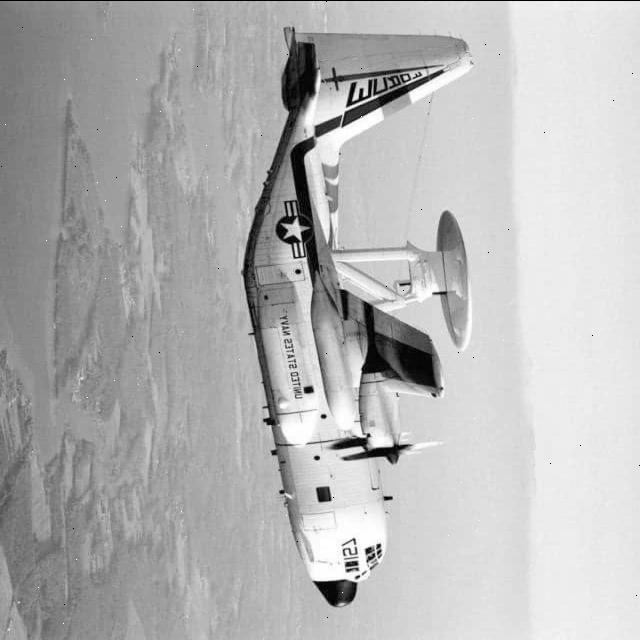C130: (220, 3, 508, 621)
